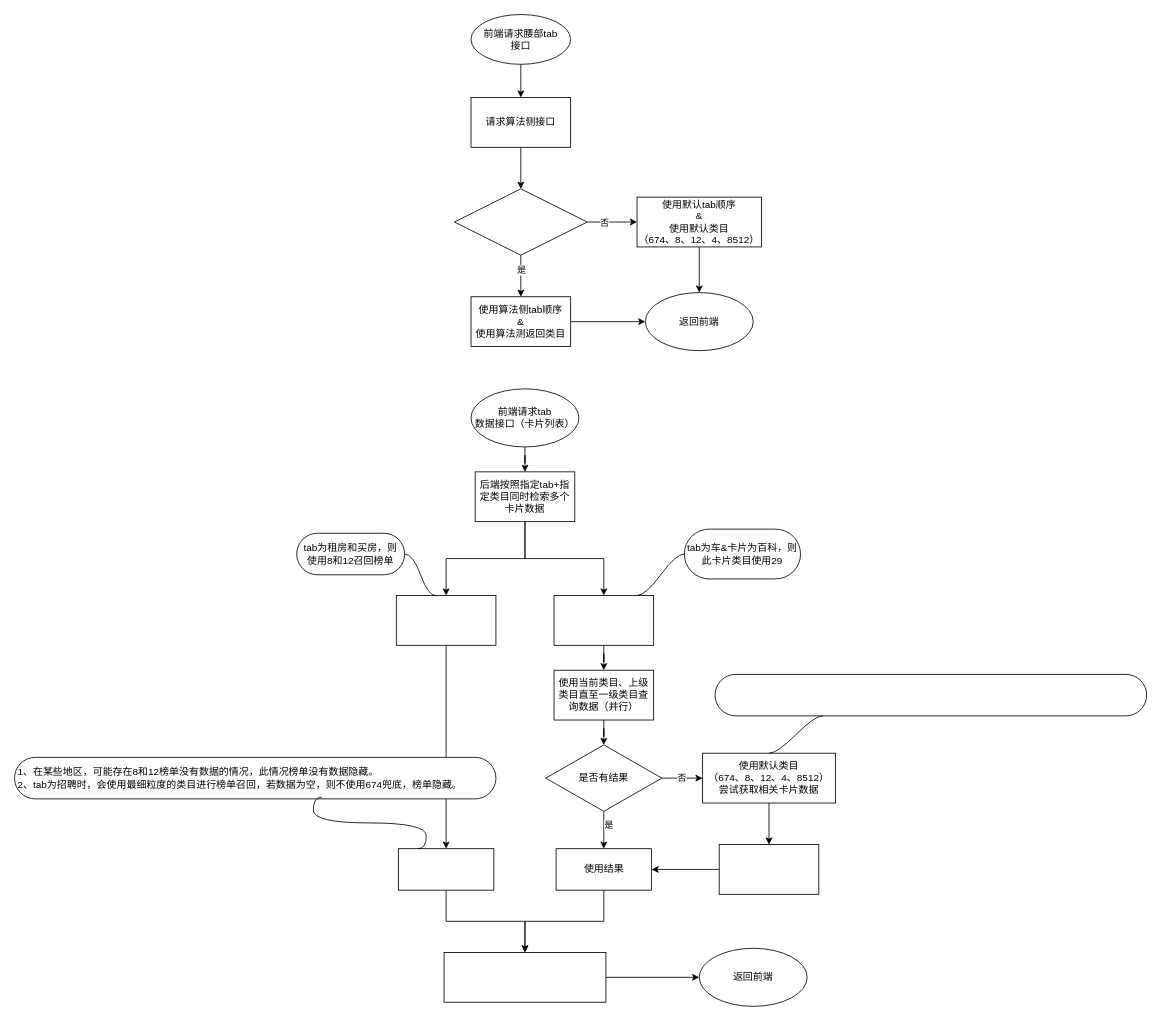
Image size: 1161x1021. Some labels were removed from this diagram. Here are the shapes that lost their labels. From the top down, the centre of each, then its label:
(x=520, y=221): 是否成功
(x=445, y=620): 查询榜单数据
(x=603, y=620): 查询非榜单卡片
(x=930, y=695): 1、默认类目尽量确保有数据，若无数据，则前端卡片可能会 不足3个 。 2、如果之前已经是默认类目请求数据并且依然没有结果，则没必要再用默认类目请求了。
(x=446, y=869): 使用结果 （可能为空）
(x=768, y=869): 标记结果为兜底数据
(x=524, y=977): 合并所有卡片数据，基于是否命中兜底+卡片展示顺序进行排序，非兜底数据优先展示。
